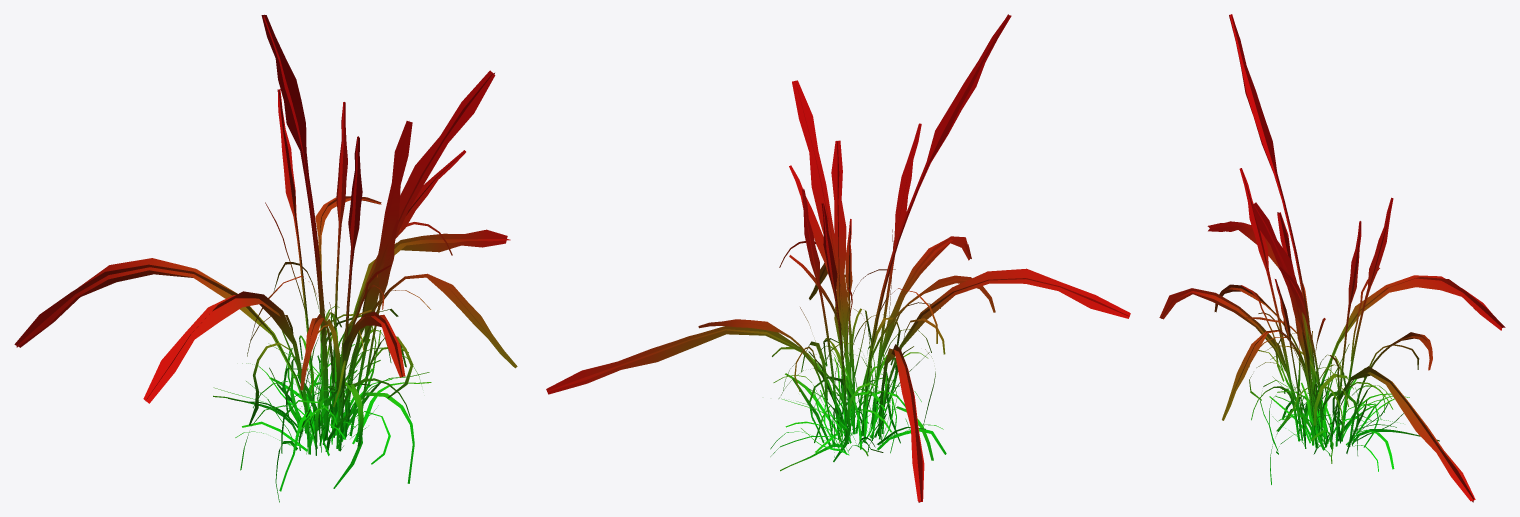
File: Wheat_LOD1_Var3_smdoejyr.fbx
3 renders of one model, left to right at view 1: azimuth 30°, elevation 25°; view 2: azimuth 150°, elevation 25°; view 3: azimuth 270°, elevation 25°, orthographic. The views are drawn at different scales.
Visible parts, largest first — view 1: _kg8t_Var3_LOD1; view 2: _kg8t_Var3_LOD1; view 3: _kg8t_Var3_LOD1.
Part boxes in pixels (x1=…): _kg8t_Var3_LOD1: x1=14, y1=14, x2=517, y2=502; _kg8t_Var3_LOD1: x1=546, y1=14, x2=1130, y2=502; _kg8t_Var3_LOD1: x1=1159, y1=14, x2=1505, y2=502.
Bounding box in the file's own units: 69.62 × 65.71 × 50.65.
